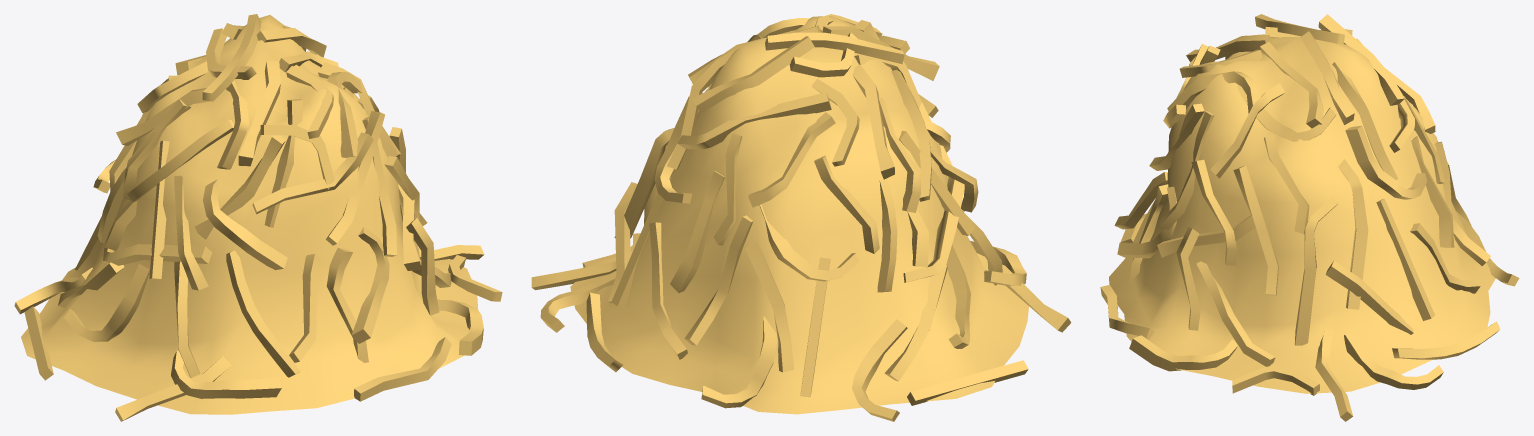
Rendered from FryHeap_Tall.fbx.
3 renders of one model, left to right at view 1: azimuth 30°, elevation 25°; view 2: azimuth 150°, elevation 25°; view 3: azimuth 270°, elevation 25°, orthographic. The views are drawn at different scales.
Parts seen in each view (by area): view 1: FryHeapTall; view 2: FryHeapTall; view 3: FryHeapTall.
Part boxes in pixels (x1,y1,x2,y2): FryHeapTall: (14, 14, 502, 421); FryHeapTall: (531, 14, 1071, 421); FryHeapTall: (1100, 14, 1519, 421).
Size of the model in its own units: 49.45 by 31.14 by 41.03.
